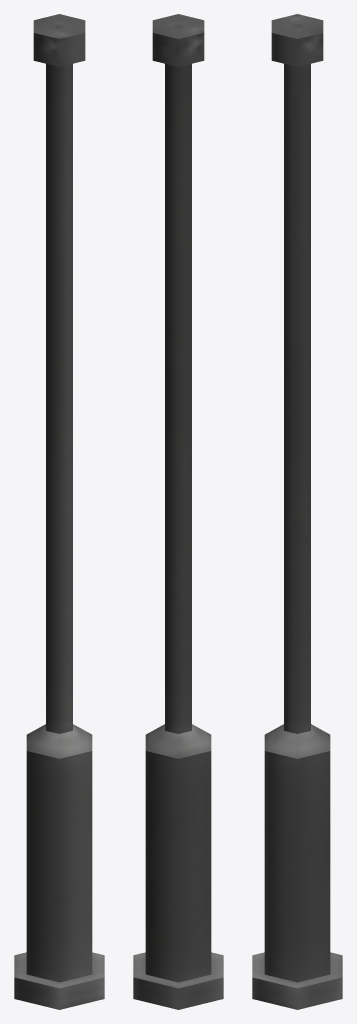
Rendered from Pole.FBX.
3 views of the same model, side by side, from view 1: azimuth 90°, elevation 25°; view 2: azimuth 150°, elevation 25°; view 3: azimuth 270°, elevation 25° (orthographic).
Visible parts, largest first — view 1: Pole; view 2: Pole; view 3: Pole.
Part boxes in pixels (x1,y1,x2,y2): Pole: (14, 14, 104, 1009); Pole: (133, 14, 223, 1009); Pole: (252, 14, 342, 1009).
Bounding box in the file's own units: 78.91 × 800 × 68.34.
